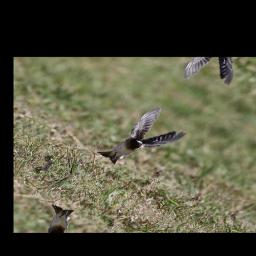Swallow: (95, 99, 196, 179)
